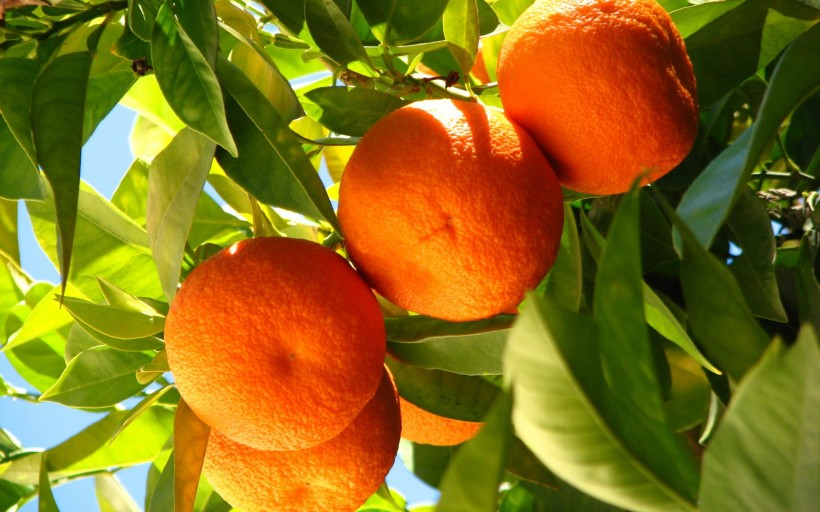orange: (336, 97, 565, 320), (165, 234, 384, 455), (497, 1, 697, 196), (187, 352, 402, 512), (377, 288, 526, 444)
